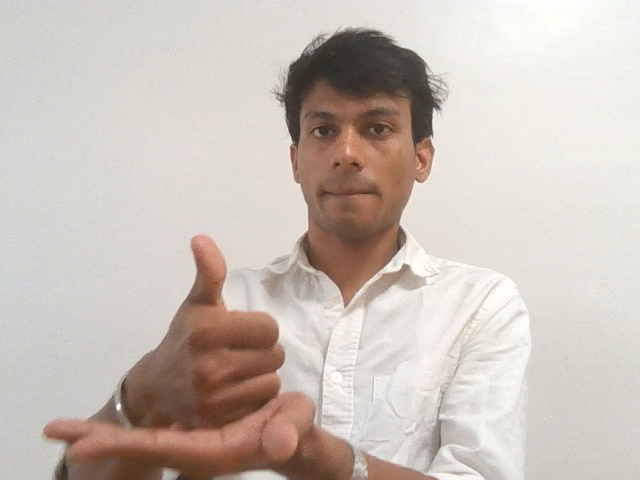Help: (41, 232, 319, 469)
